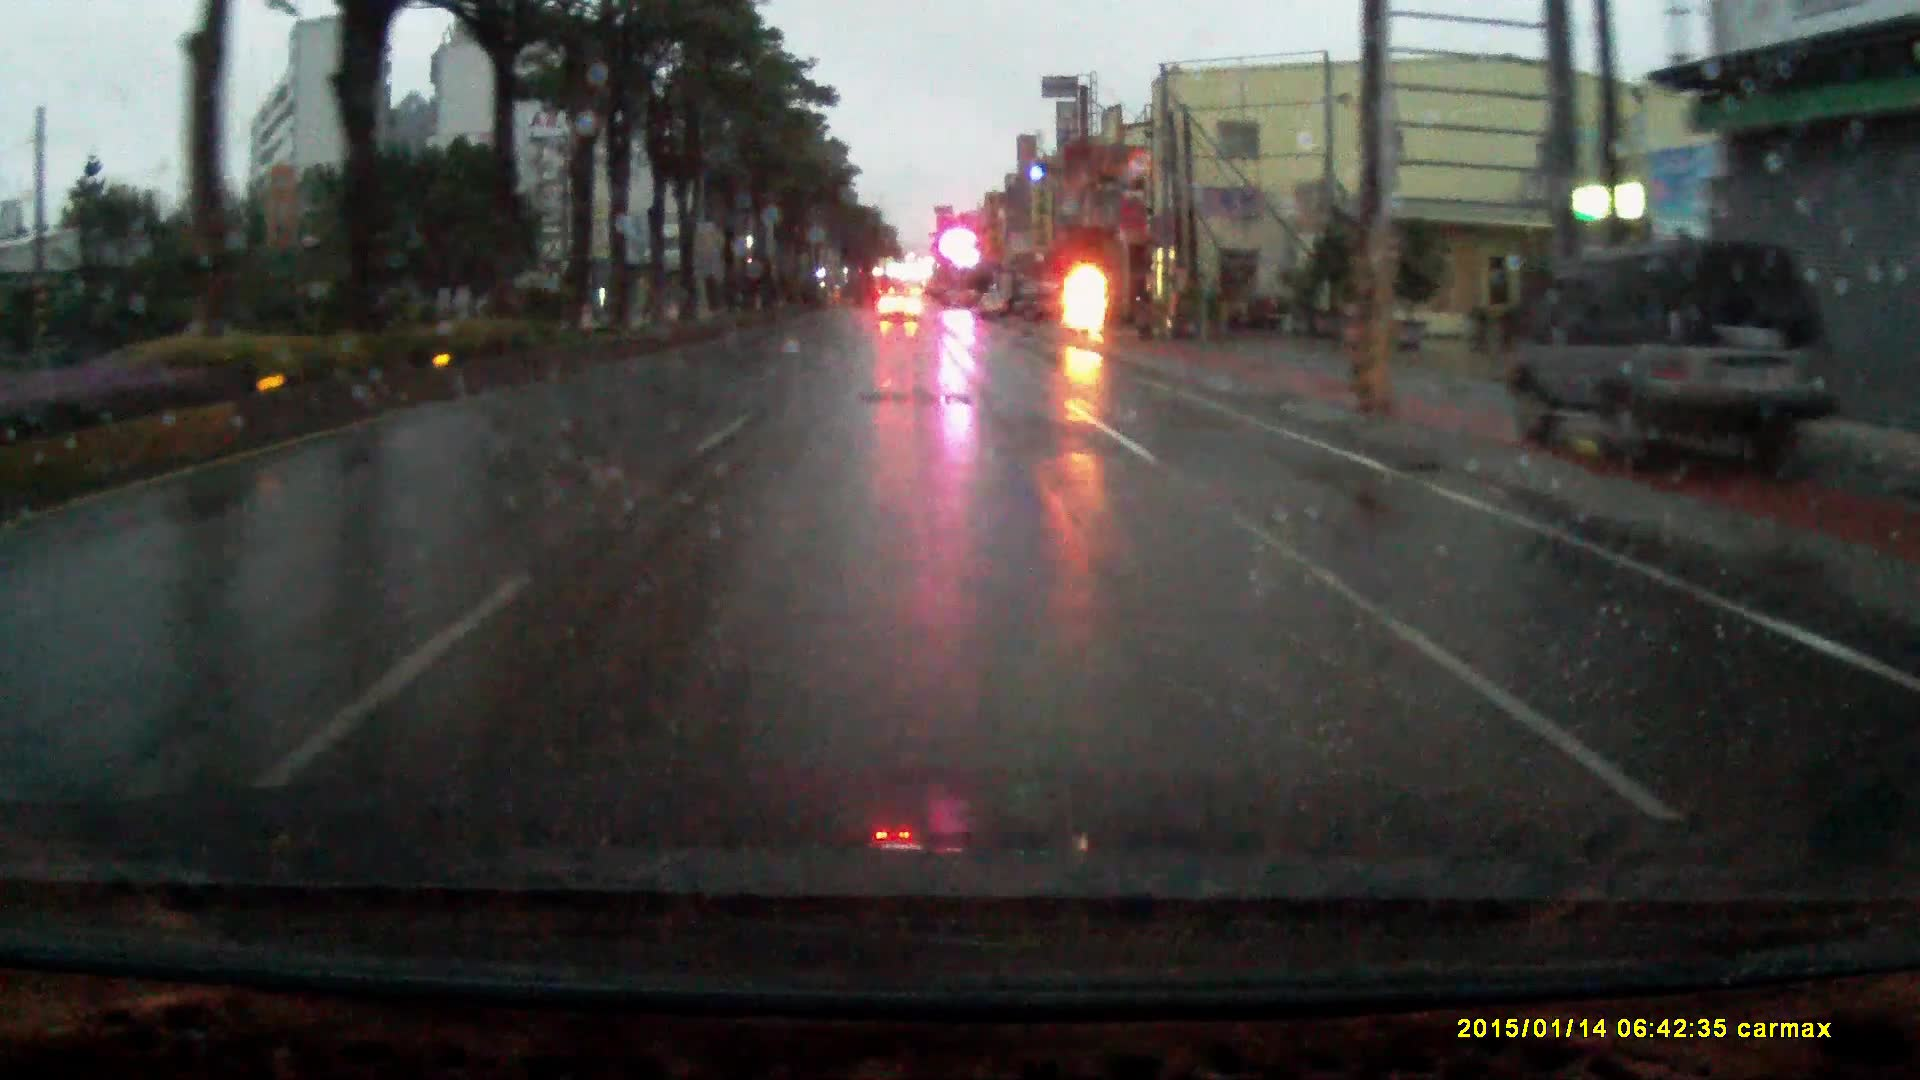vehicle: (1524, 232, 1853, 471), (1013, 285, 1077, 327), (878, 284, 924, 319)
